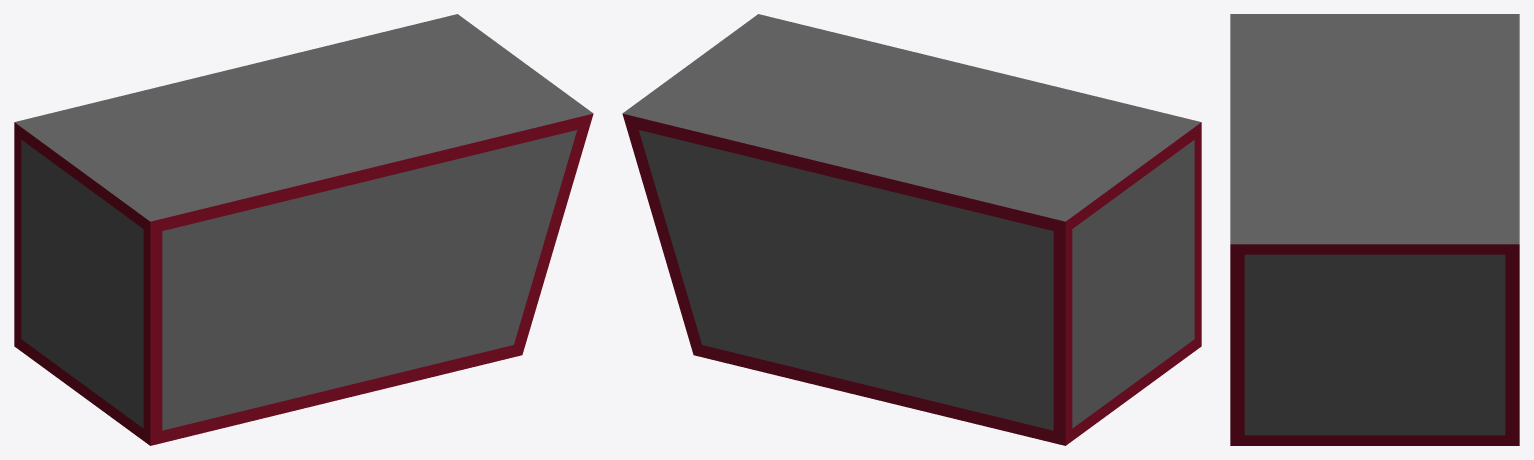
File: topukust.fbx
3 renders of one model, left to right at view 1: azimuth 30°, elevation 25°; view 2: azimuth 150°, elevation 25°; view 3: azimuth 270°, elevation 25°, orthographic. The views are drawn at different scales.
Visible parts, largest first — view 1: Plane.004; view 2: Plane.004; view 3: Plane.004.
Boxes of the visible parts, left/top/right/bottom form: Plane.004: left=14, top=14, right=593, bottom=445; Plane.004: left=622, top=14, right=1201, bottom=445; Plane.004: left=1230, top=14, right=1519, bottom=445.
Bounding box in the file's own units: 93.64 × 45.28 × 49.77.
